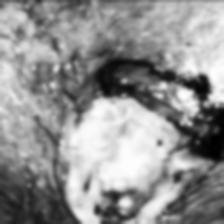Potentially Malignant Skin Tumors: (50, 56, 224, 224)
